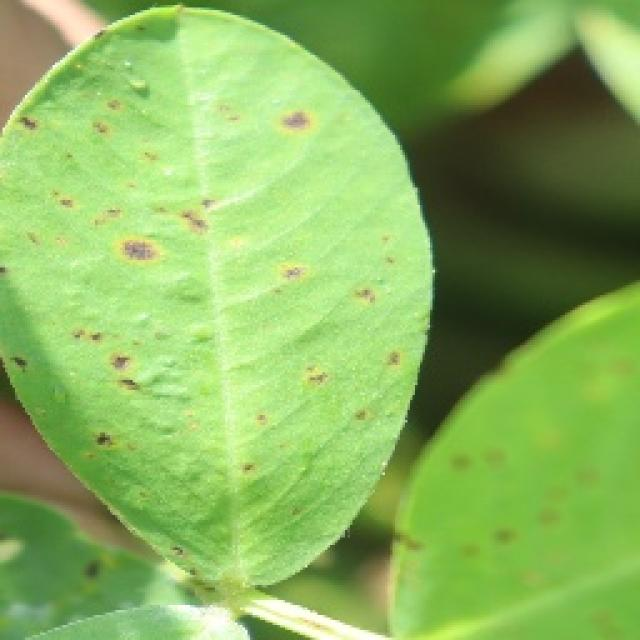Early_leaf_spot: (30, 290, 149, 458), (15, 64, 138, 223), (242, 347, 412, 446), (258, 246, 420, 336), (80, 187, 183, 288), (149, 161, 241, 271), (264, 71, 354, 179)
